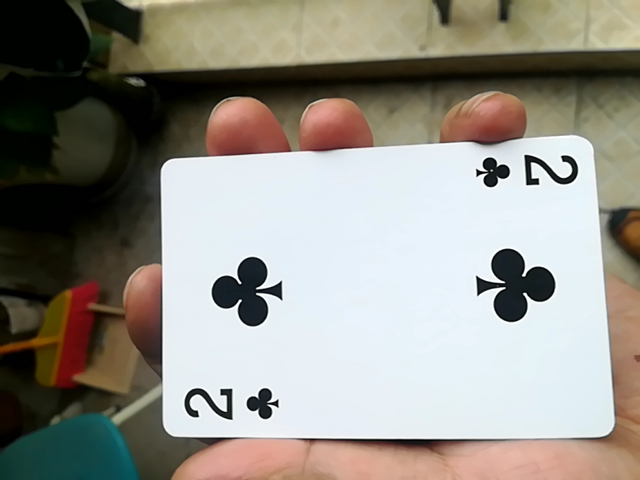mh 2: (147, 134, 605, 450)
